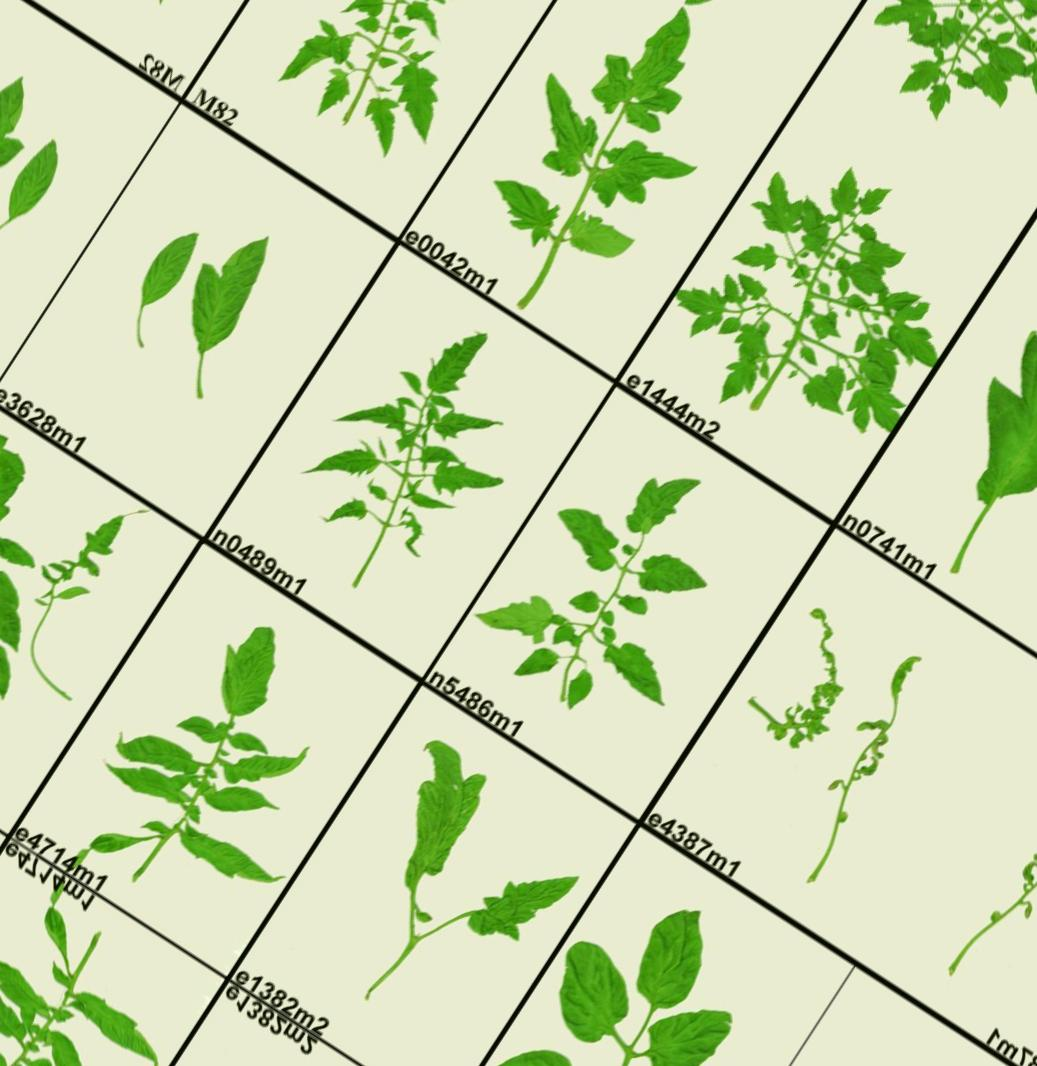Tomato leaf: (912, 254, 1037, 547), (579, 0, 720, 144), (584, 113, 702, 229), (501, 69, 617, 186), (613, 442, 706, 553), (542, 198, 649, 293), (414, 305, 508, 409), (619, 535, 720, 624)
